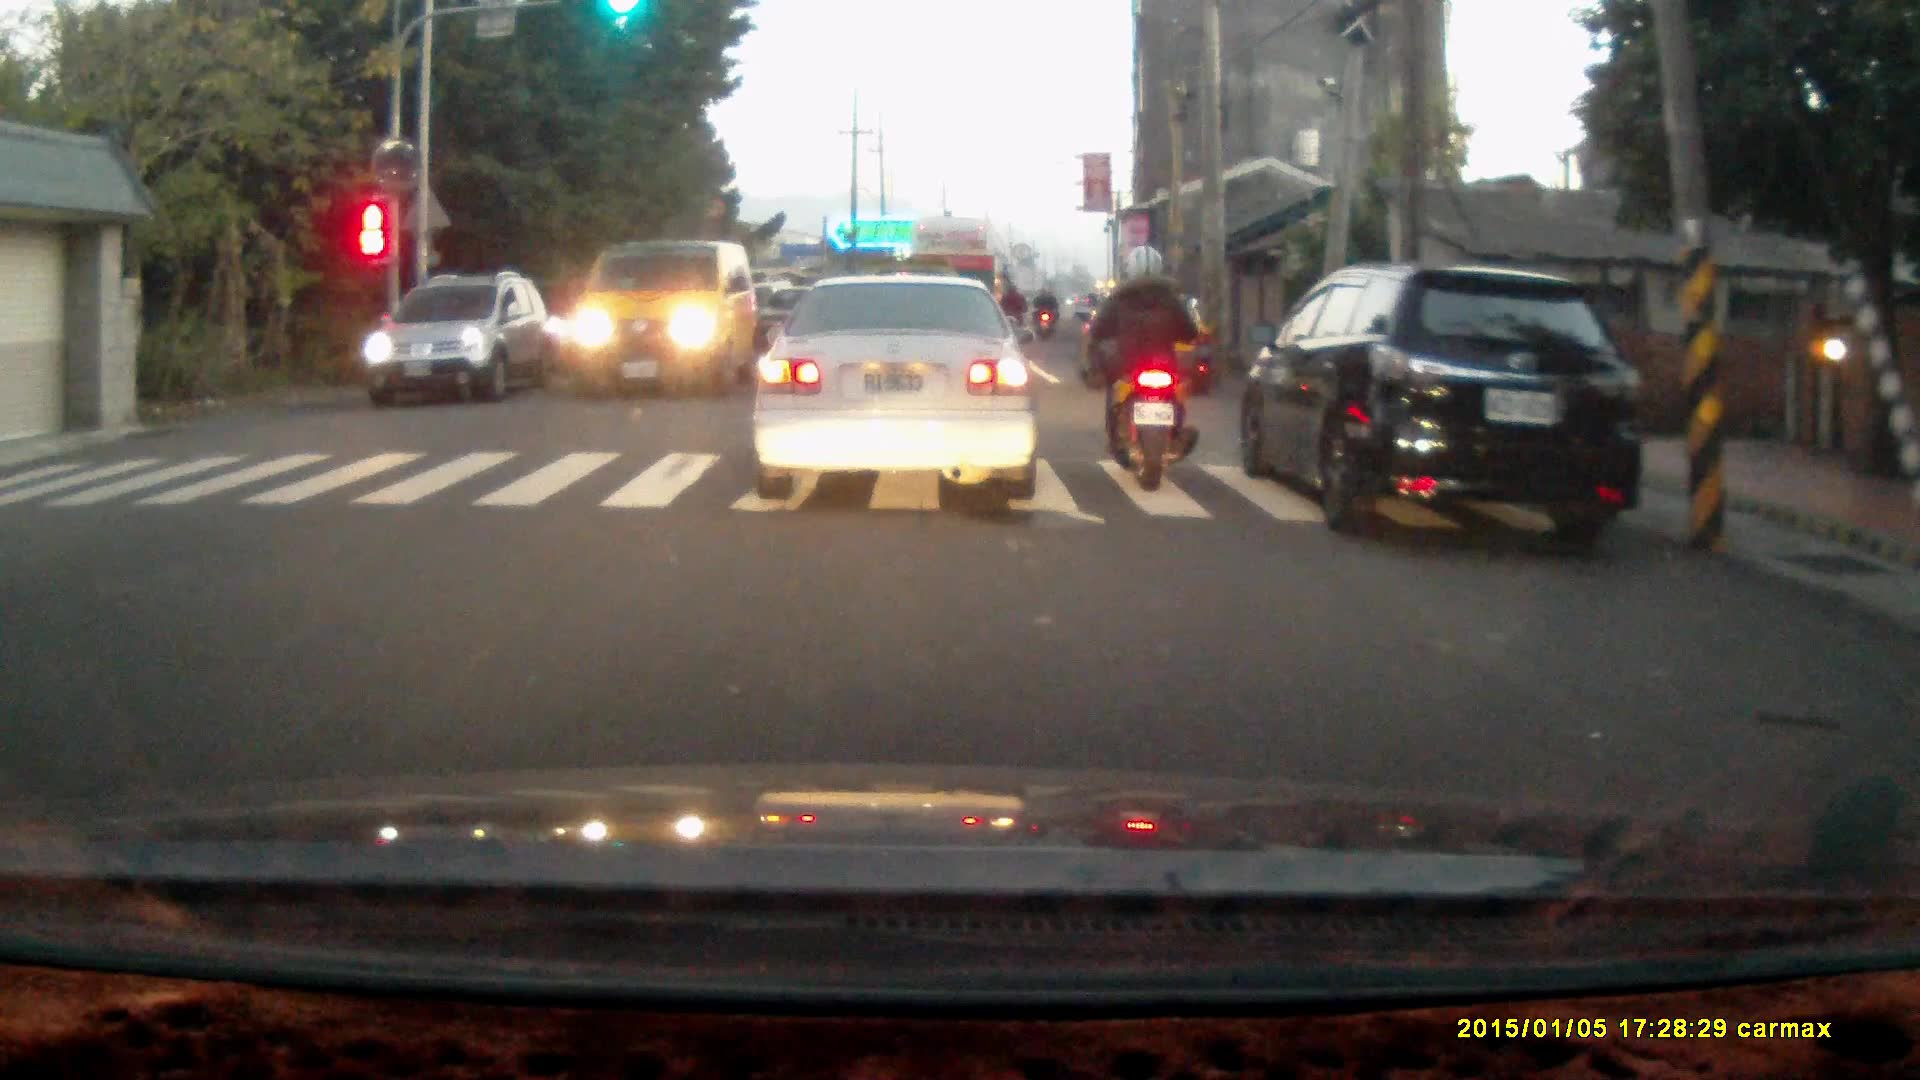rider: (1084, 240, 1197, 491)
vehicle: (1246, 262, 1647, 536), (752, 269, 1044, 504), (563, 243, 758, 407), (363, 272, 551, 402), (1082, 291, 1214, 407), (907, 221, 1014, 352)
